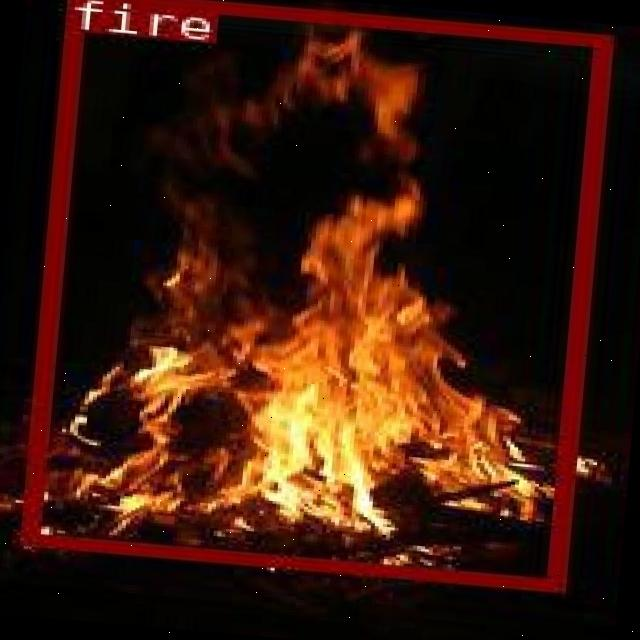fire: (16, 0, 608, 588)
